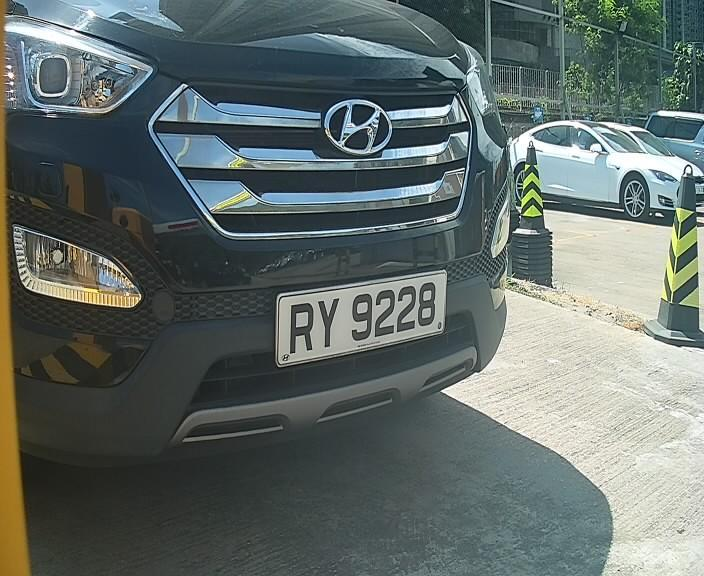privatecar: (10, 13, 551, 456)
